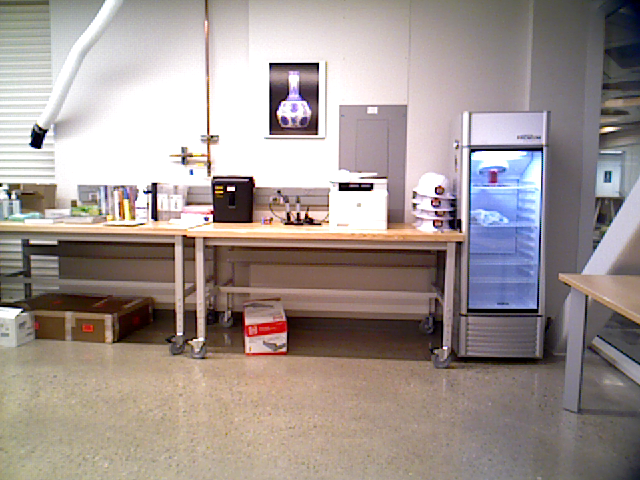painting2: (261, 56, 330, 146)
